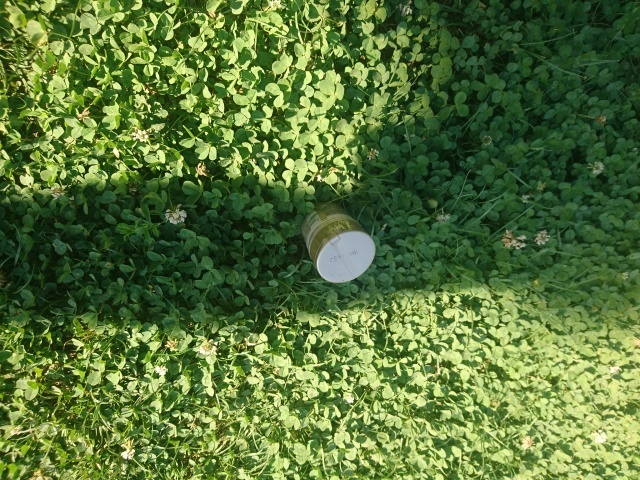Kotanyi Garlic Granules 70g: (293, 196, 379, 286)
